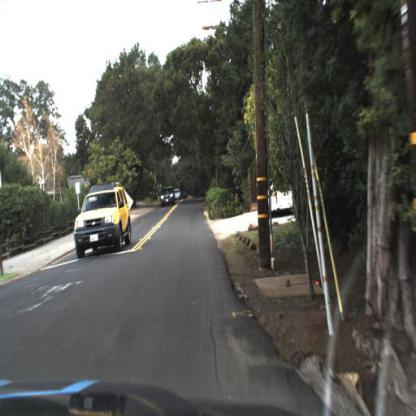car: (72, 181, 132, 259), (160, 186, 175, 208), (174, 186, 183, 201)
